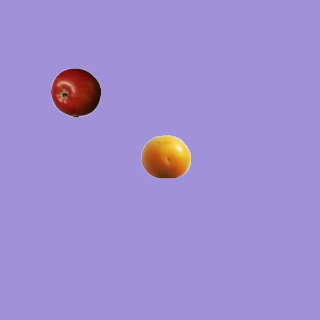Apple Braeburn: (50, 67, 100, 117)
Cherry Wax Yellow: (140, 131, 190, 181)
